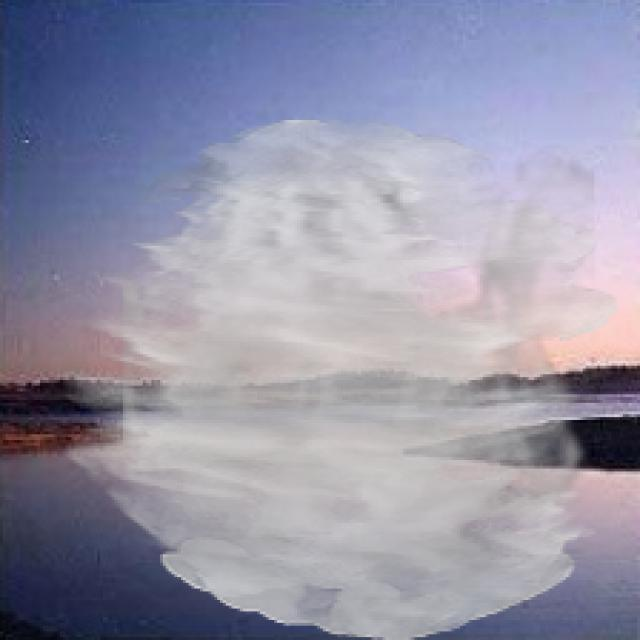Smoke: (57, 117, 623, 637)
